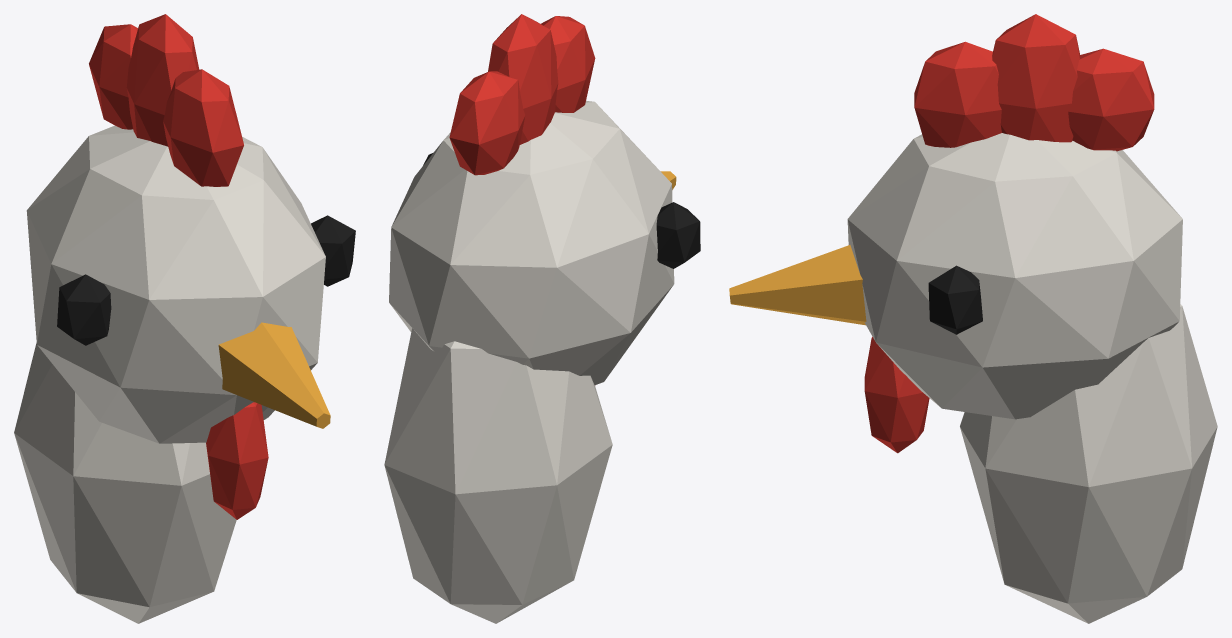
Rendered from chicken_0_head.glb.
3 renders of one model, left to right at view 1: azimuth 30°, elevation 25°; view 2: azimuth 150°, elevation 25°; view 3: azimuth 270°, elevation 25°, orthographic. The views are drawn at different scales.
Parts seen in each view (by area): view 1: chicken_0_head; view 2: chicken_0_head; view 3: chicken_0_head.
Boxes of the visible parts, x1,y1,x2,y2 form: chicken_0_head: [14, 14, 355, 623]; chicken_0_head: [384, 14, 700, 623]; chicken_0_head: [729, 14, 1217, 623].
Bounding box in the file's own units: 0.1106 × 0.229 × 0.1662.
